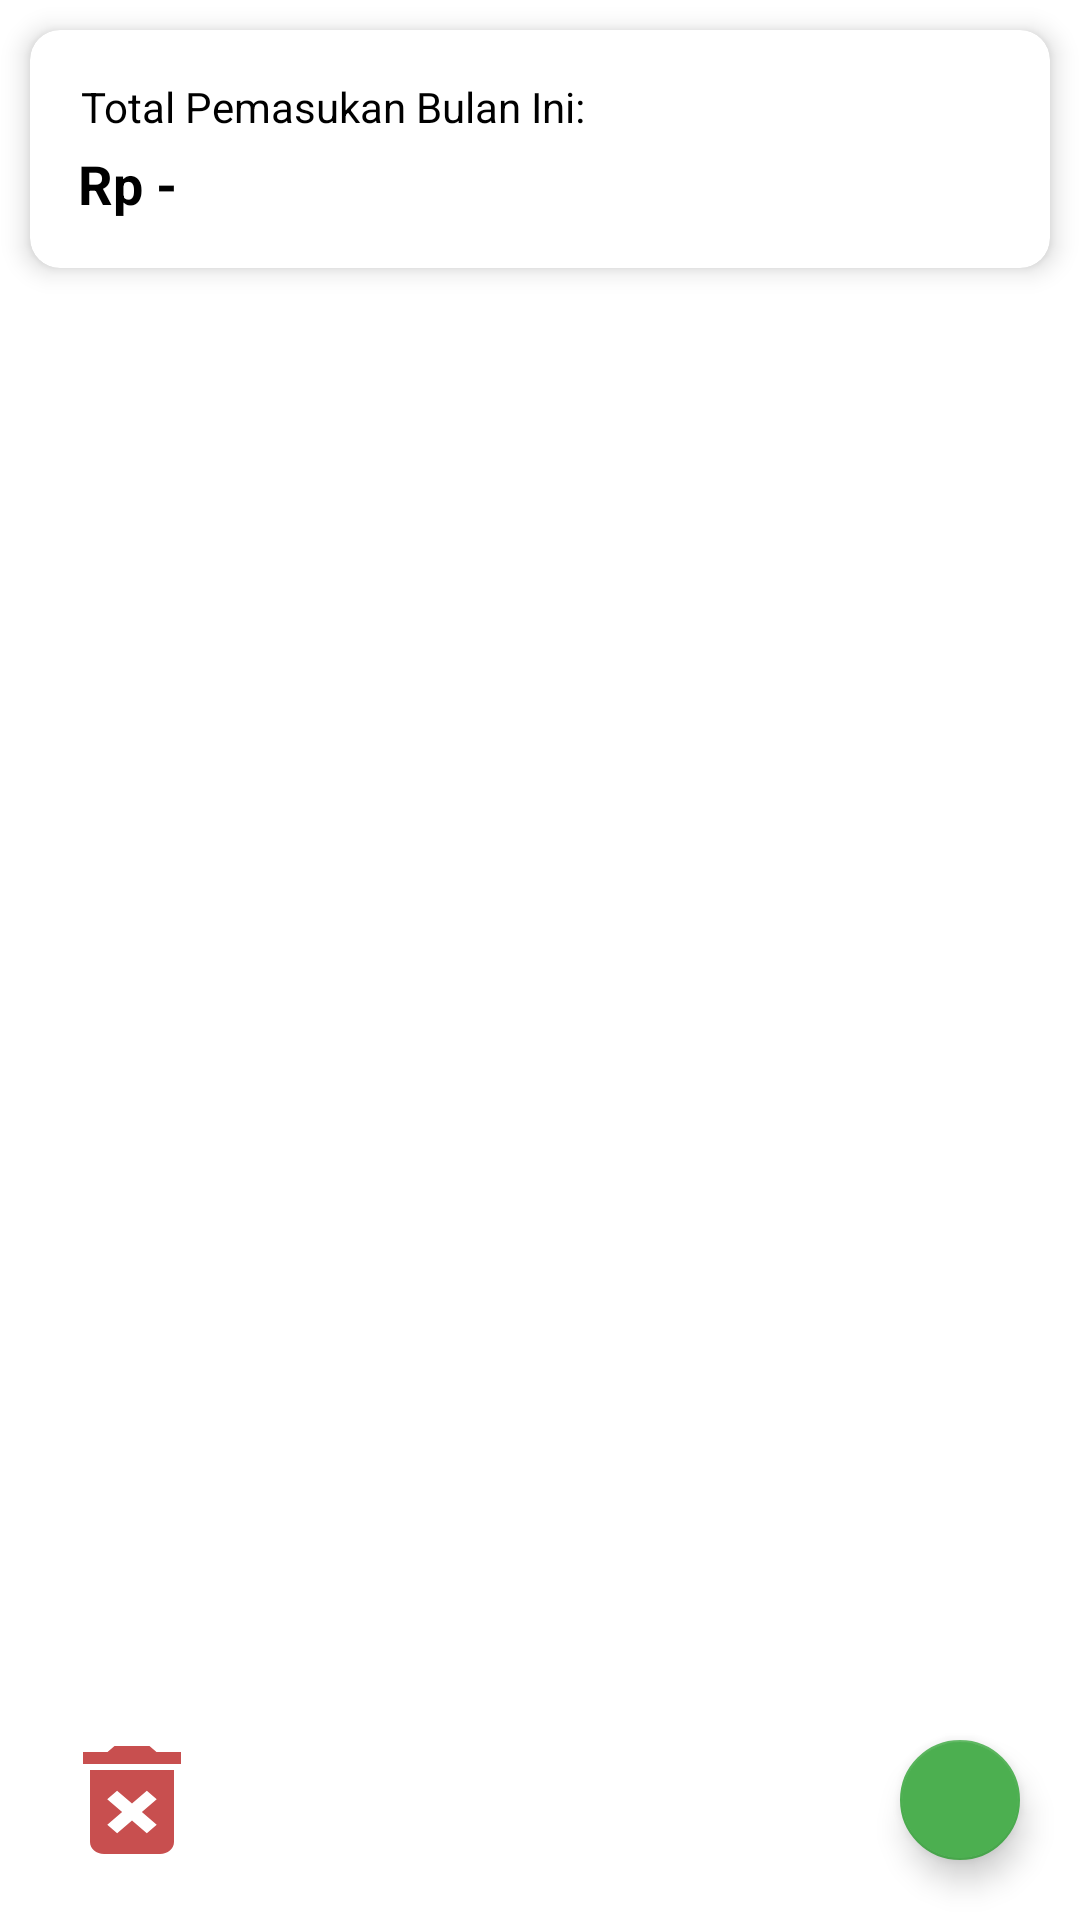

Named icons in this screenshot (1080×1920) and their centers, [x,y]:
Delete All!: [132,1800]
